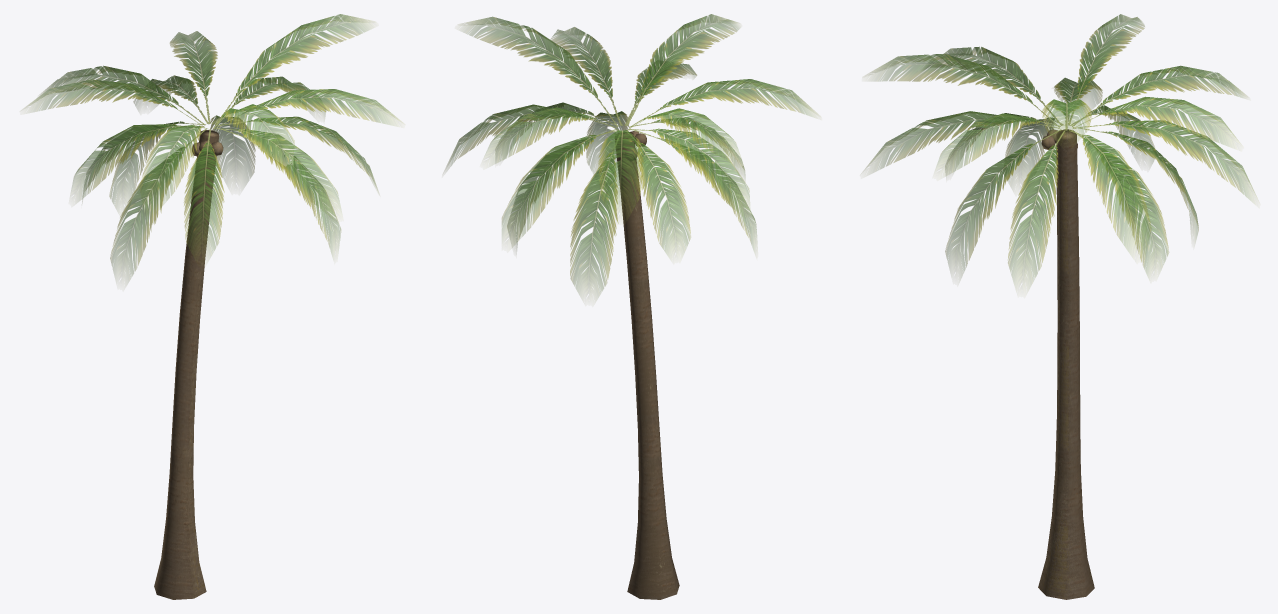
The model's file is palm_a.glb.
3 views of the same model, side by side, from view 1: azimuth 30°, elevation 25°; view 2: azimuth 150°, elevation 25°; view 3: azimuth 270°, elevation 25° (orthographic). The views are drawn at different scales.
Parts seen in each view (by area): view 1: palm_a; view 2: palm_a; view 3: palm_a.
Boxes of the visible parts, x1,y1,x2,y2 form: palm_a: [21, 14, 402, 599]; palm_a: [443, 14, 818, 599]; palm_a: [863, 14, 1256, 599].
Size of the model in its own units: 6.21 by 9.47 by 6.33.
Materials: 2 (2 with a texture image).
